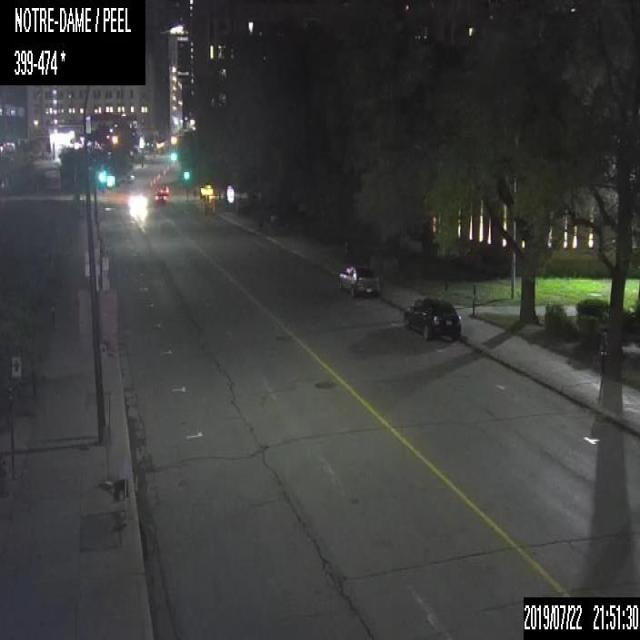construction: (198, 180, 217, 212), (202, 200, 206, 213), (212, 201, 215, 213)
vehicle: (401, 296, 461, 340), (336, 264, 380, 297), (126, 193, 148, 219), (152, 181, 169, 200)
